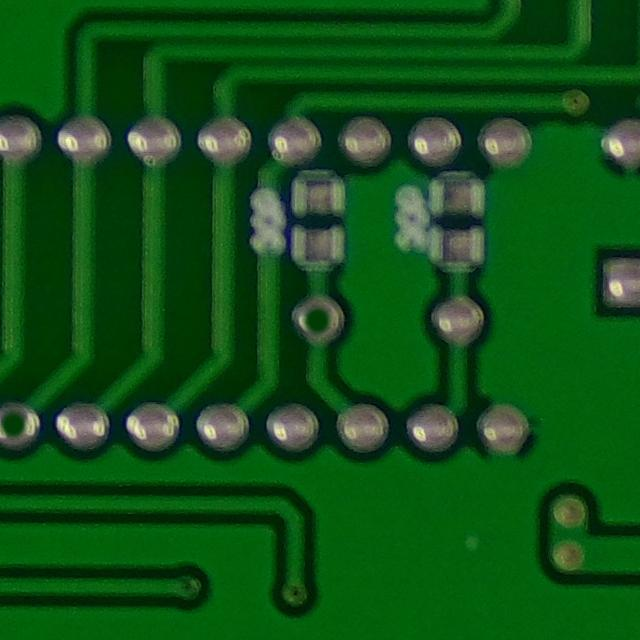missing_hole: (290, 291, 350, 350)
